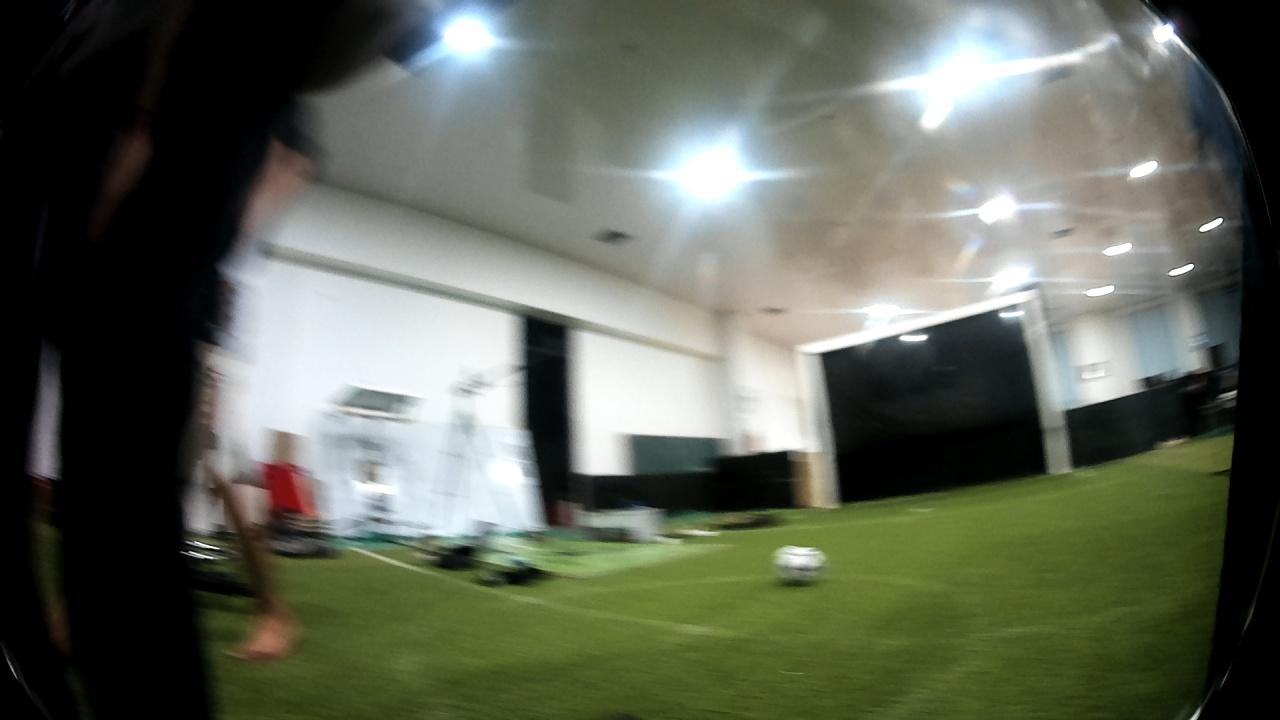ball: (764, 540, 829, 588)
